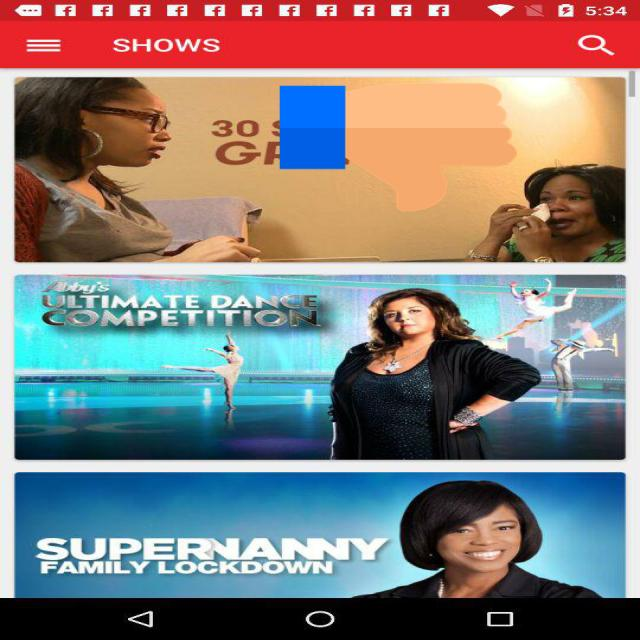obstruction: (279, 80, 516, 215)
